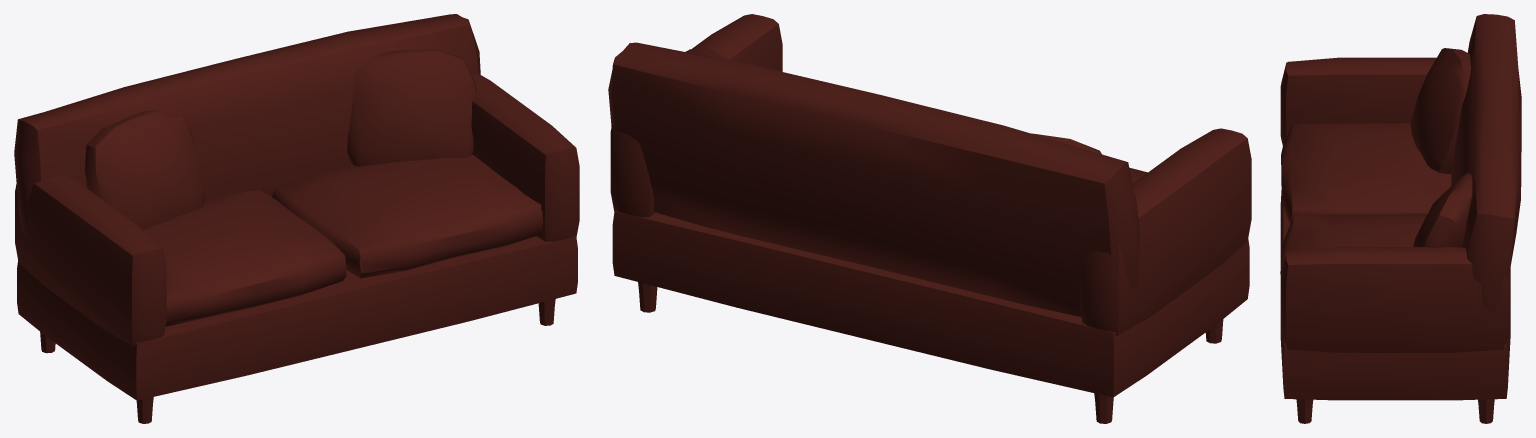
Rendered from Settee_Plaid.fbx.
3 renders of one model, left to right at view 1: azimuth 30°, elevation 25°; view 2: azimuth 150°, elevation 25°; view 3: azimuth 270°, elevation 25°, orthographic. The views are drawn at different scales.
Parts seen in each view (by area): view 1: Settee_Plaid; view 2: Settee_Plaid; view 3: Settee_Plaid.
Part boxes in pixels (x1,y1,x2,y2): Settee_Plaid: (14, 14, 579, 423); Settee_Plaid: (608, 14, 1251, 423); Settee_Plaid: (1280, 14, 1521, 423).
Size of the model in its own units: 1.64 by 0.8152 by 0.7973.
